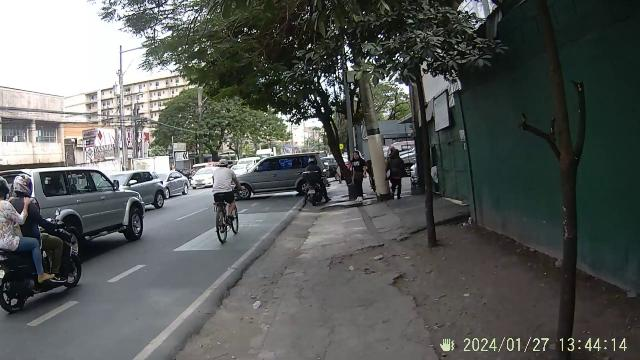tree: (324, 95, 360, 201)
utility_post: (361, 68, 389, 200)
